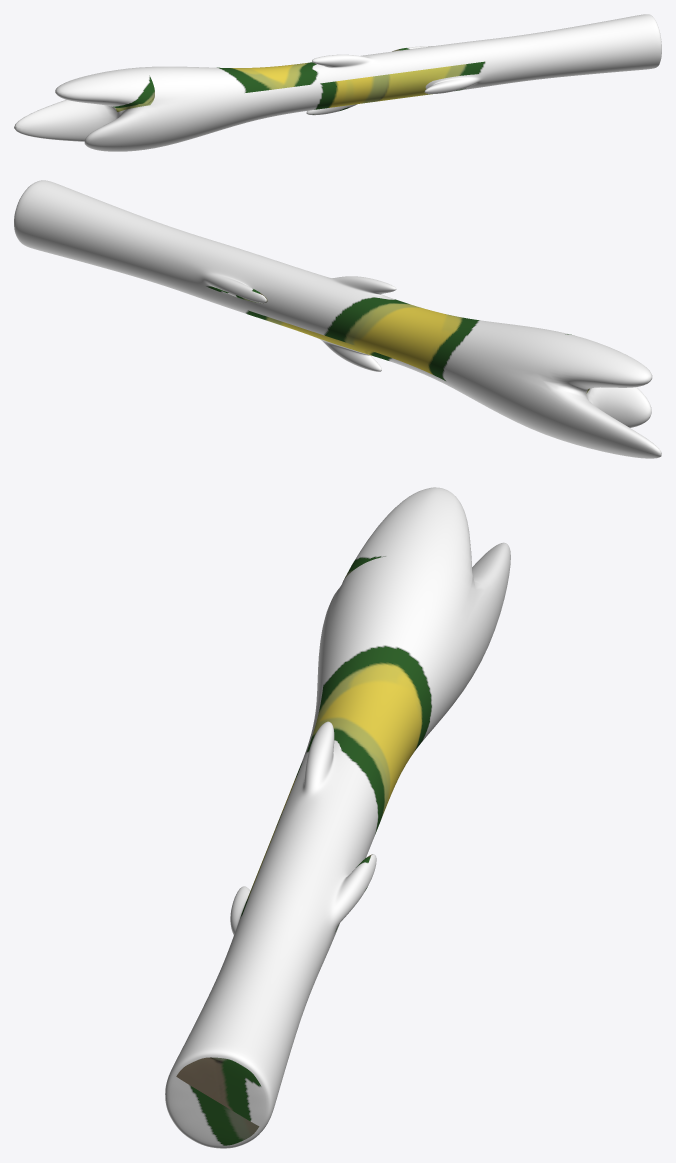
Rendered from Asparagus.fbx.
3 renders of one model, top to bottom at view 1: azimuth 30°, elevation 25°; view 2: azimuth 150°, elevation 25°; view 3: azimuth 270°, elevation 25°, orthographic. The views are drawn at different scales.
Parts seen in each view (by area): view 1: SM_Asparagus; view 2: SM_Asparagus; view 3: SM_Asparagus.
Part boxes in pixels (x1=…): SM_Asparagus: x1=14, y1=14, x2=661, y2=151; SM_Asparagus: x1=14, y1=180, x2=661, y2=458; SM_Asparagus: x1=165, y1=487, x2=510, y2=1148.
Bounding box in the file's own units: 85.48 × 10.76 × 22.38.
